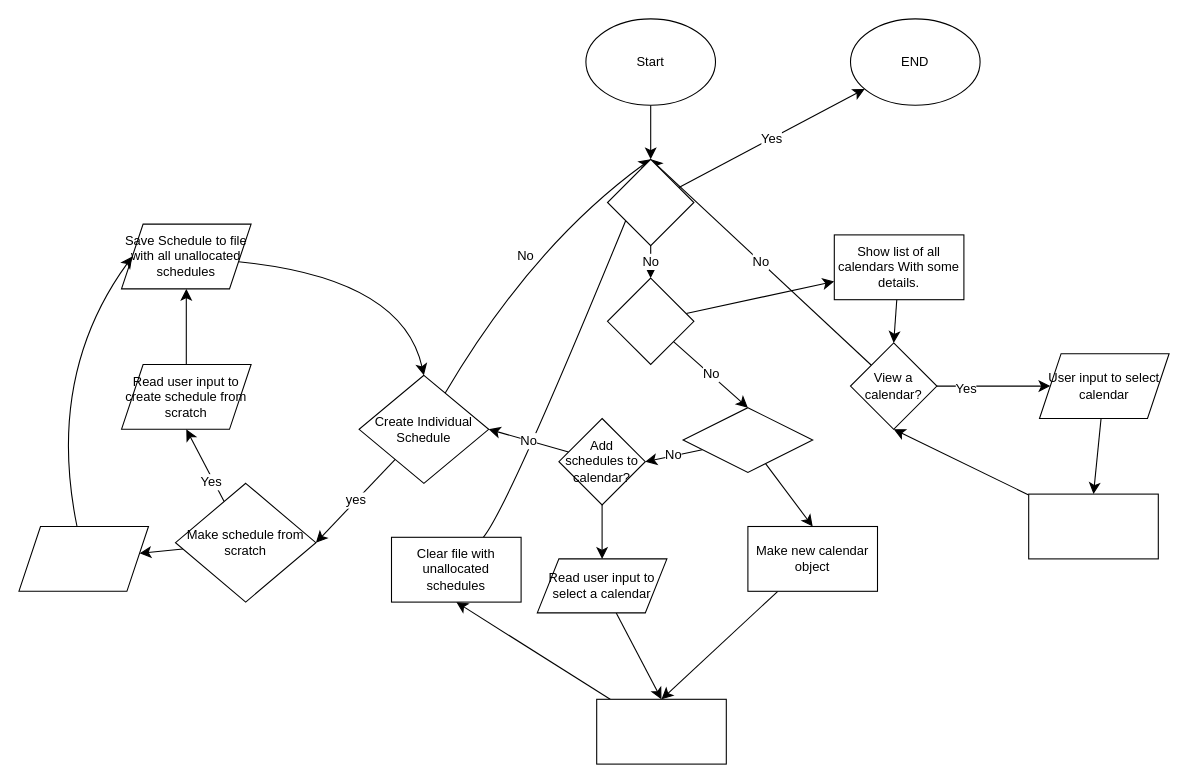
This 1188x783 diagram has some shape labels left out. The centre of each missing label's shape, as x and y in pixels:
"Create Calendar" belongs at [747,440].
"Display the selected calendar" belongs at [1093,526].
"Exit?" belongs at [650,202].
"Read from Unallocated schedules file and add to a calendar" belongs at [661,731].
"Read user input of pre-made schedule" belongs at [83,558].
"View Calendars" belongs at [650,320].
